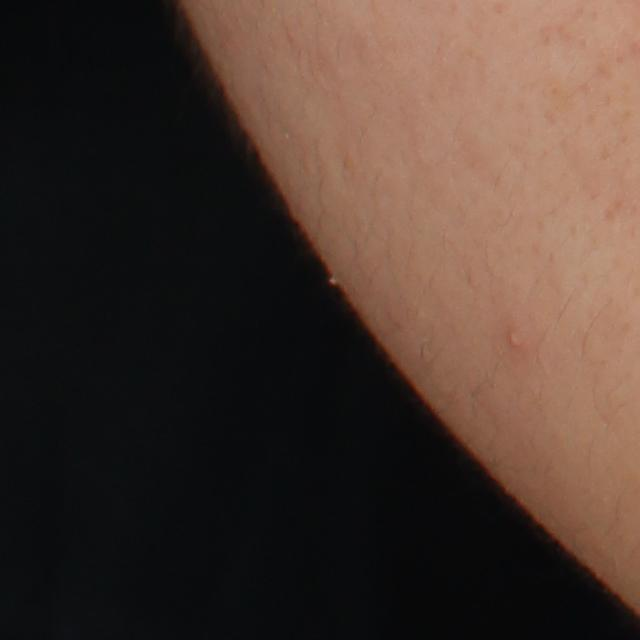papule: (506, 325, 530, 356)
